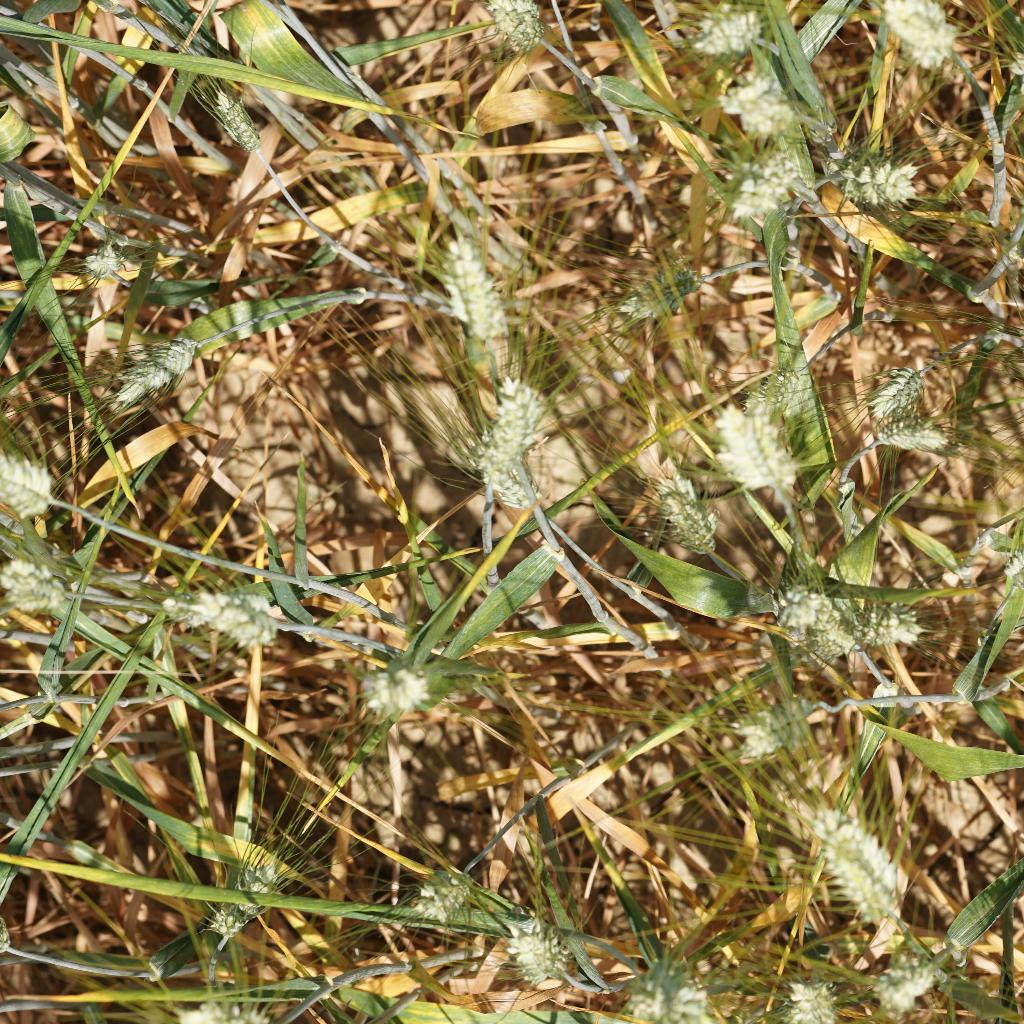0-0: (815, 813, 914, 934), (428, 231, 522, 343), (635, 462, 735, 557), (109, 326, 223, 407), (860, 0, 971, 83), (591, 247, 709, 324), (725, 669, 817, 766), (447, 417, 538, 512), (477, 376, 555, 481), (156, 585, 276, 650), (706, 399, 788, 494), (776, 563, 859, 651), (198, 854, 280, 937), (720, 131, 802, 210), (0, 555, 85, 631), (826, 142, 927, 205), (871, 942, 956, 1013), (724, 73, 807, 145), (0, 457, 81, 527), (619, 968, 720, 1024), (849, 580, 926, 653), (500, 909, 568, 987), (847, 351, 925, 418), (396, 870, 486, 927), (735, 358, 811, 421), (692, 0, 773, 59), (878, 415, 968, 464), (772, 968, 848, 1024), (212, 89, 272, 159), (481, 0, 545, 62), (352, 662, 433, 710), (165, 990, 277, 1024), (78, 234, 142, 288), (1000, 25, 1024, 119), (996, 529, 1024, 593), (1006, 175, 1024, 240)
